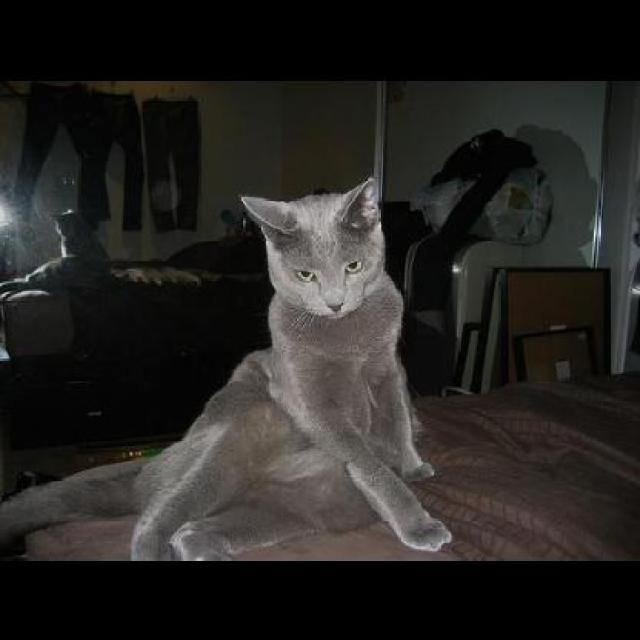unauthorized: (0, 174, 452, 560)
